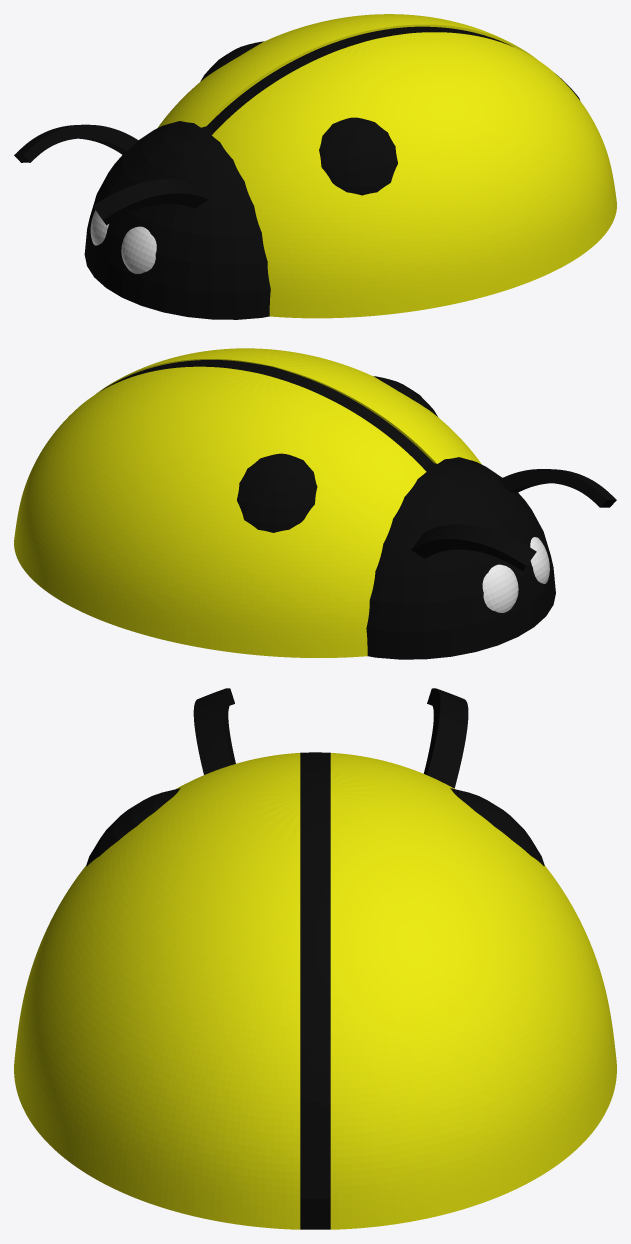
Rendered from Yellow_Ladybird.glb.
3 renders of one model, top to bottom at view 1: azimuth 30°, elevation 25°; view 2: azimuth 150°, elevation 25°; view 3: azimuth 270°, elevation 25°, orthographic. The views are drawn at different scales.
Visible parts, largest first — view 1: Body, Head, L_Spot, L_Tenna, Stripe, R_Tenna, L_Eye, R_Spot, R_Eye; view 2: Body, Head, R_Spot, Stripe, R_Tenna, L_Tenna, R_Eye, L_Eye, L_Spot; view 3: Body, Stripe, R_Tenna, L_Tenna, R_Spot, L_Spot.
Boxes of the visible parts, x1,y1,x2,y2 form: Body: [158, 14, 616, 318]; Head: [84, 121, 270, 319]; L_Spot: [319, 117, 397, 195]; L_Tenna: [93, 179, 208, 225]; Stripe: [207, 26, 579, 132]; R_Tenna: [14, 124, 138, 162]; L_Eye: [121, 226, 156, 273]; R_Spot: [200, 41, 263, 81]; R_Eye: [90, 210, 108, 245]; Body: [14, 348, 481, 657]; Head: [366, 457, 555, 659]; R_Spot: [237, 453, 317, 532]; Stripe: [100, 360, 433, 467]; R_Tenna: [411, 524, 536, 571]; L_Tenna: [499, 469, 616, 507]; R_Eye: [482, 564, 518, 612]; L_Eye: [530, 537, 549, 583]; L_Spot: [373, 376, 438, 417]; Body: [14, 753, 616, 1229]; Stripe: [300, 756, 330, 1229]; R_Tenna: [423, 688, 468, 788]; L_Tenna: [193, 688, 235, 774]; R_Spot: [450, 788, 544, 866]; L_Spot: [86, 788, 180, 866].
Bounding box in the file's own units: 2.93 × 0.9942 × 1.99.
